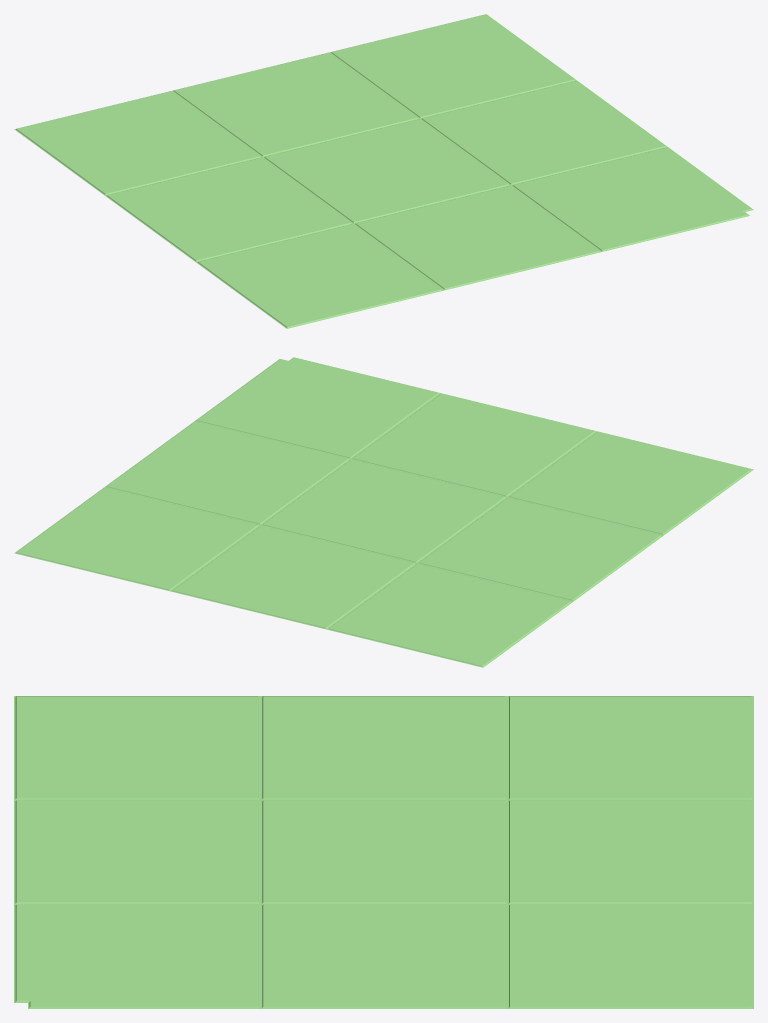
The model's file is Room_ceiling_corner_out.fbx.
The picture shows the model from 3 angles, top to bottom: view 1: azimuth 30°, elevation 25°; view 2: azimuth 150°, elevation 25°; view 3: azimuth 270°, elevation 25°; orthographic projection. The views are drawn at different scales.
Parts seen in each view (by area): view 1: Room_ceiling_corner_out; view 2: Room_ceiling_corner_out; view 3: Room_ceiling_corner_out.
Boxes of the visible parts, x1,y1,x2,y2 form: Room_ceiling_corner_out: (14, 14, 753, 328); Room_ceiling_corner_out: (14, 357, 753, 667); Room_ceiling_corner_out: (14, 696, 753, 1008).
Size of the model in its own units: 2 by 0.00309 by 2.
